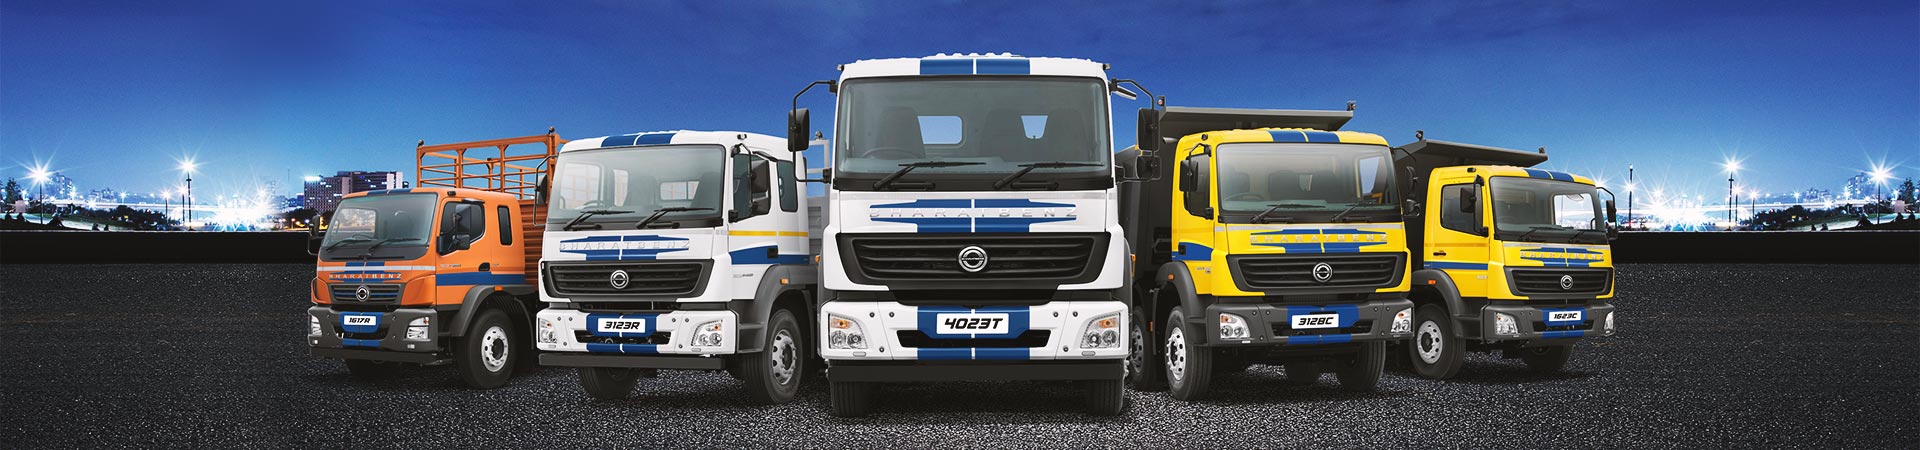Truck: (811, 34, 1151, 428), (1135, 104, 1416, 410), (529, 138, 811, 415), (302, 144, 538, 391), (1411, 150, 1631, 385)
